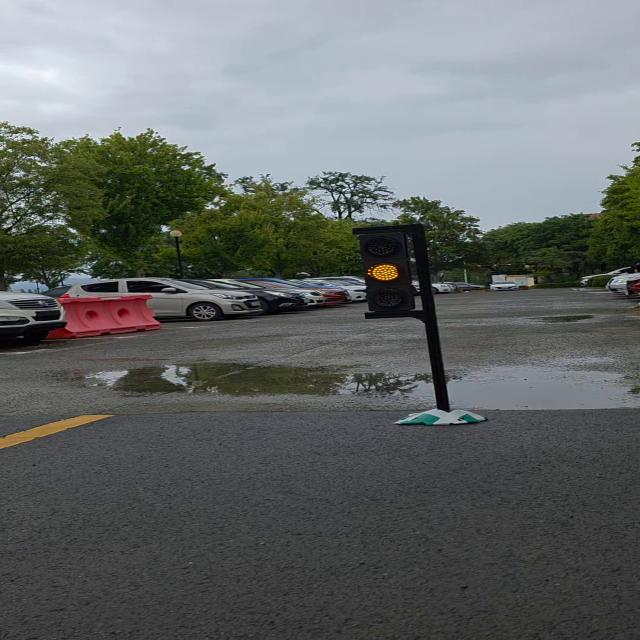yellow: (345, 220, 430, 323)
